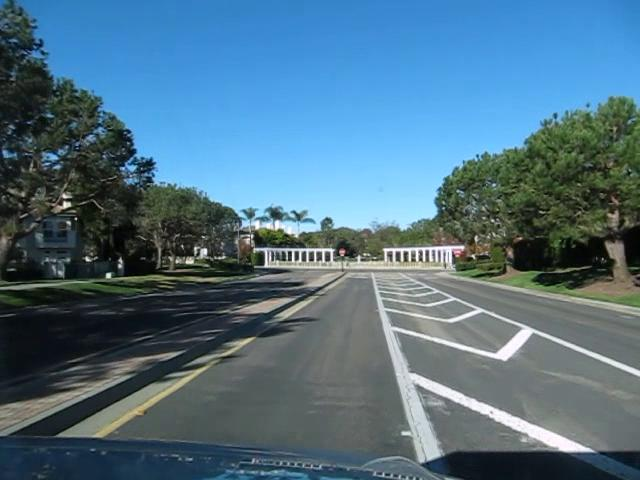stop: (452, 247, 461, 256)
